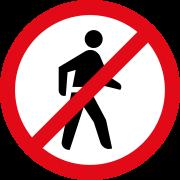Pedestrian Prohibited: (8, 4, 175, 175)
